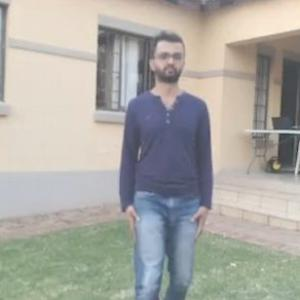follow: (122, 28, 213, 288)
